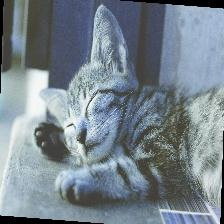kedo: (35, 4, 224, 204)
